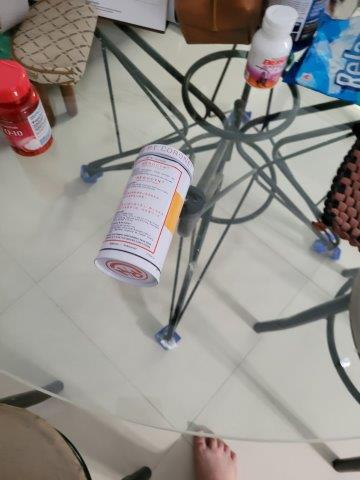kaleng: (92, 145, 194, 293)
